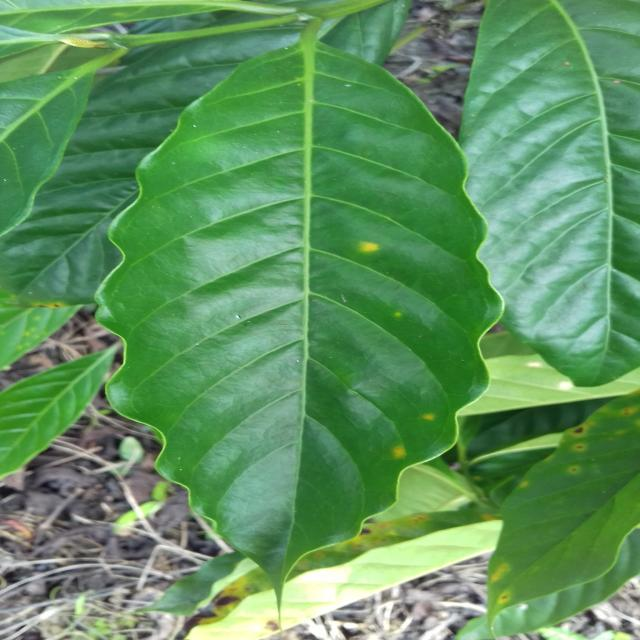Enfermedad-Roya: (91, 43, 504, 592)
